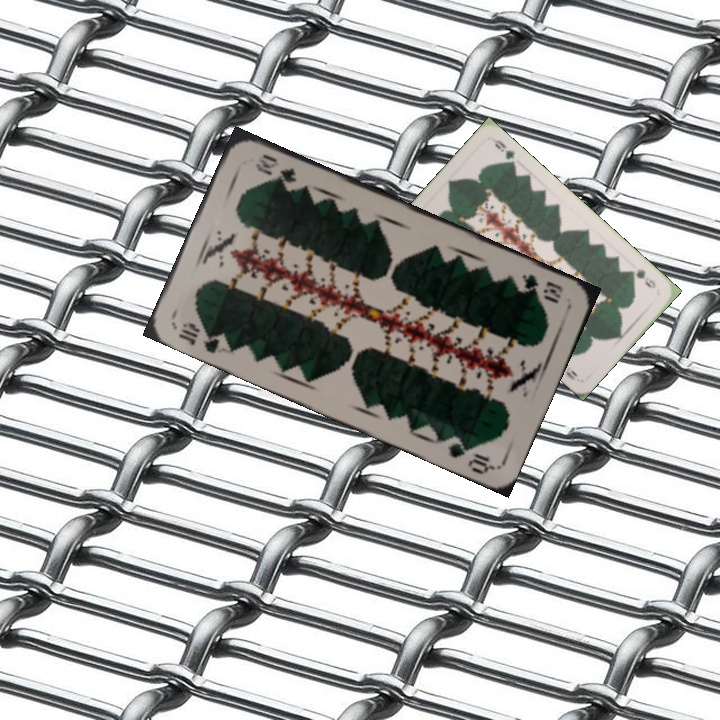G10: (174, 318, 231, 357), (517, 270, 566, 306)
G9: (625, 264, 659, 291)
